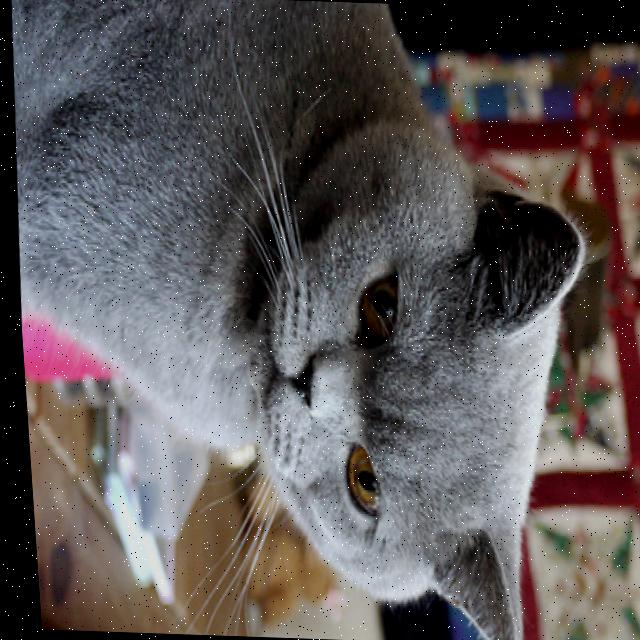British Shorthair: (0, 0, 617, 640)
